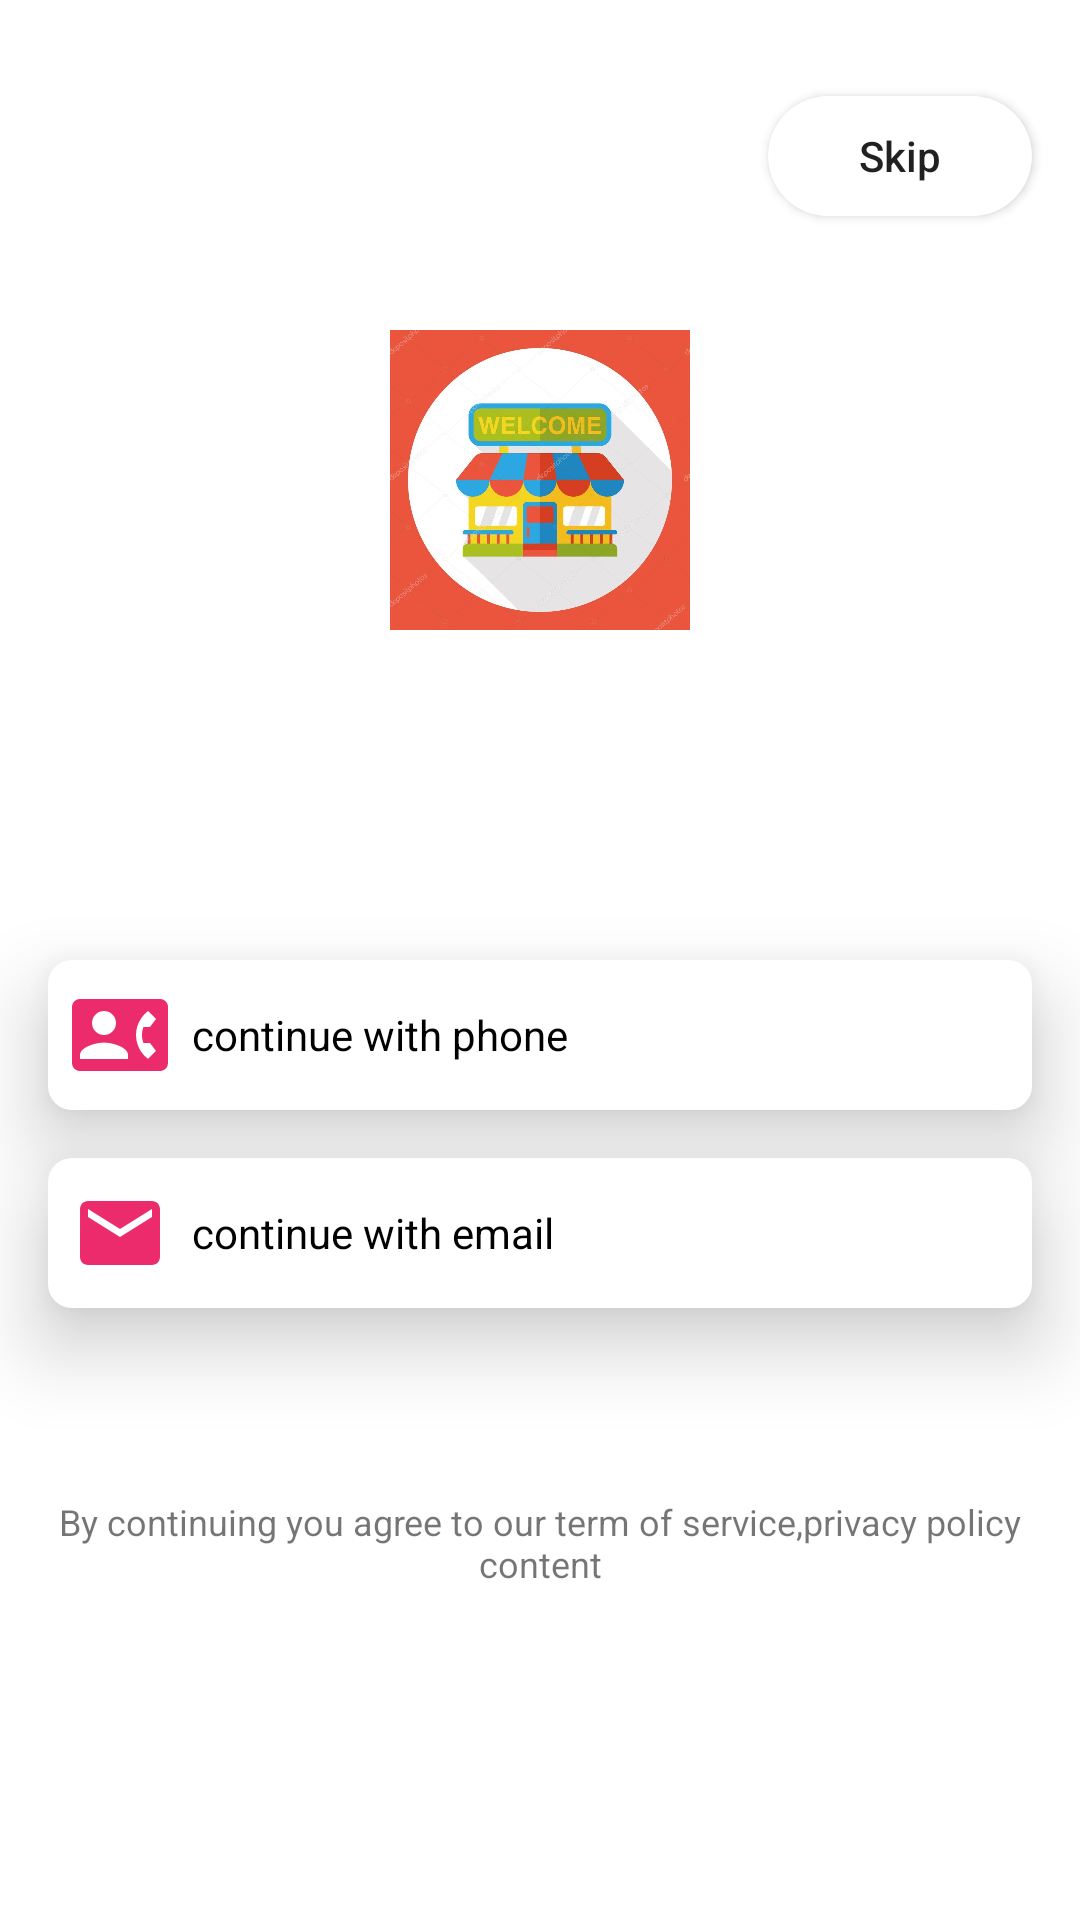

Screen size 1080 x 1920. Icon name, then its box in pixels as (x1, y1, x2, y2):
grocery: (390, 330, 690, 630)
